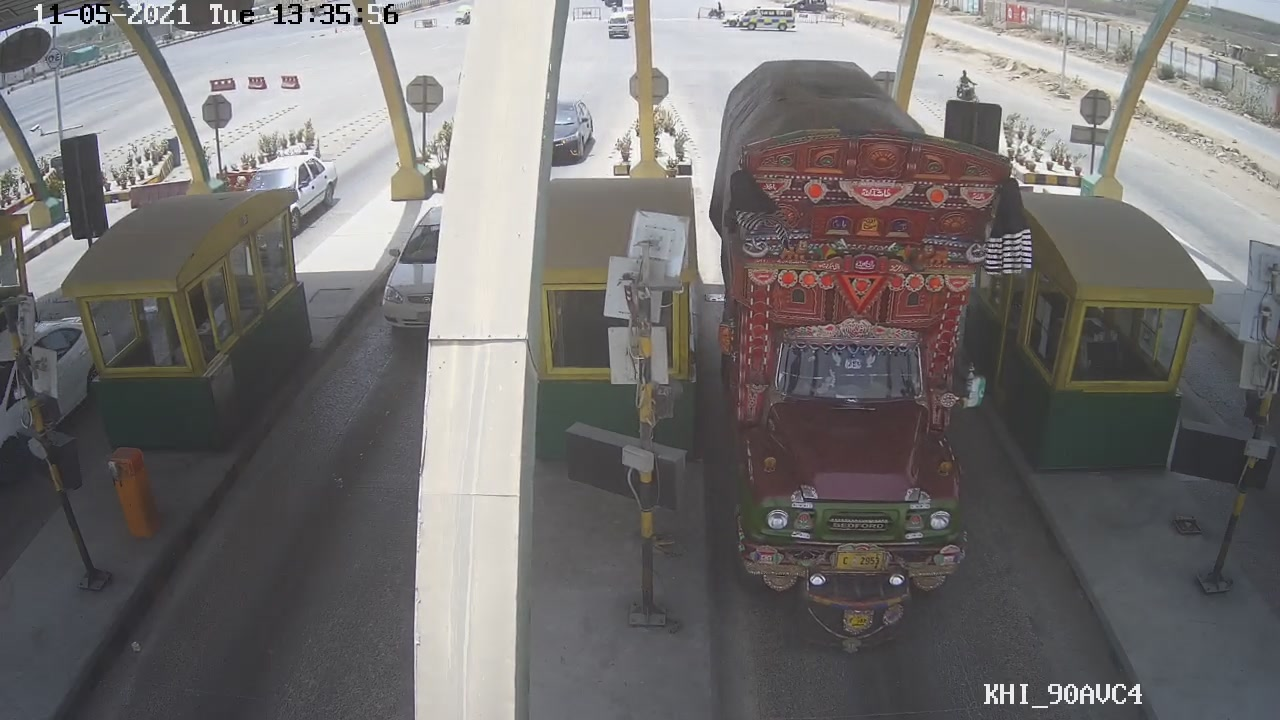F5: (700, 56, 1024, 615)
